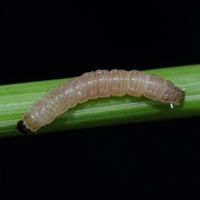insect: (17, 69, 184, 132)
